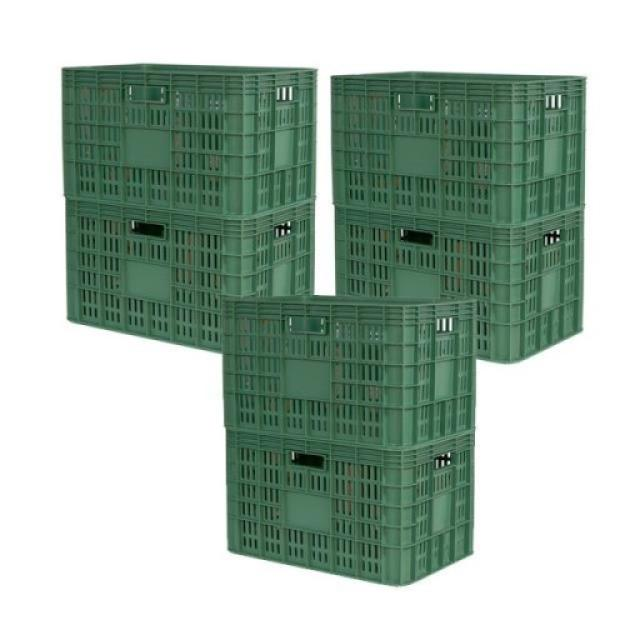basket: (330, 70, 586, 364), (60, 63, 318, 353), (223, 296, 475, 586), (336, 208, 584, 363)
